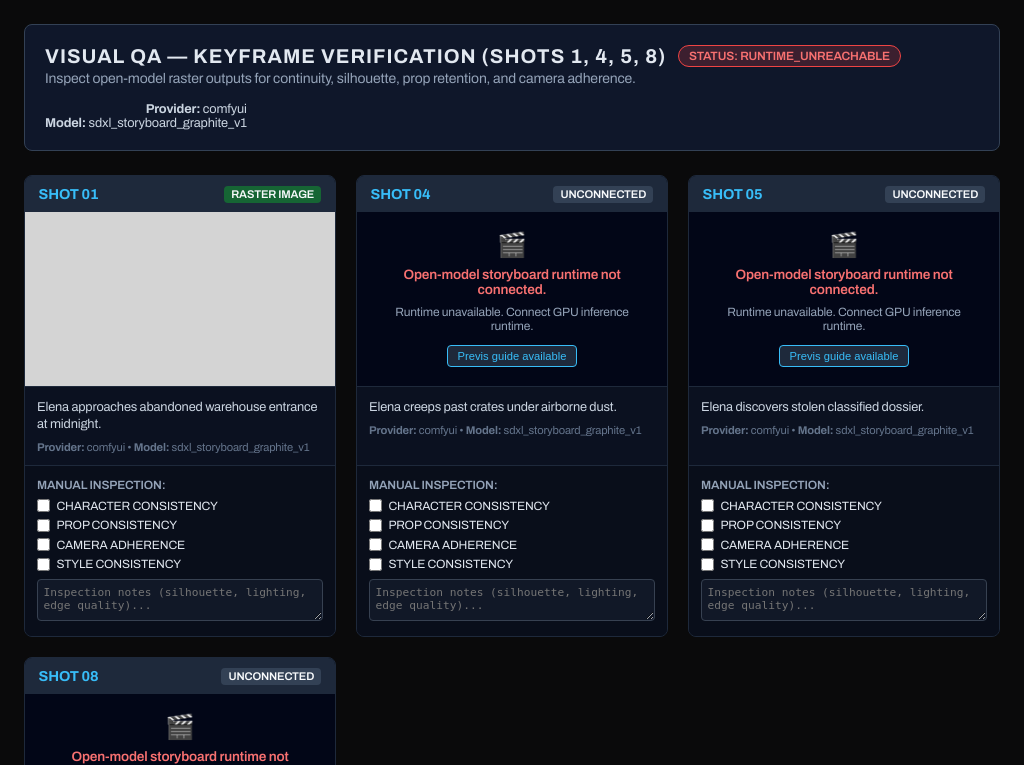
it: VisualQaView Component › toggles previs guide for unrendered shot without displaying SVG as final artwork
Click the button "Previs guide available" below "04" at (512, 356), box [447,345,577,367]
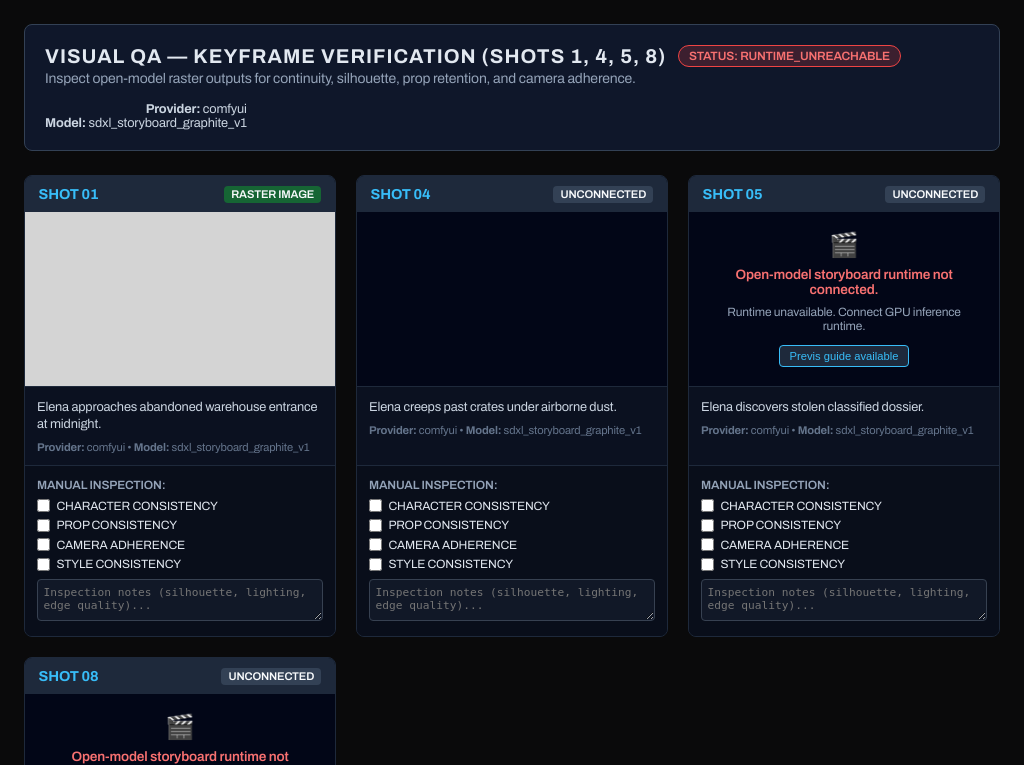
Now the element with test id "qa-previs-shot-4" is shown, box [357,212,667,386]
